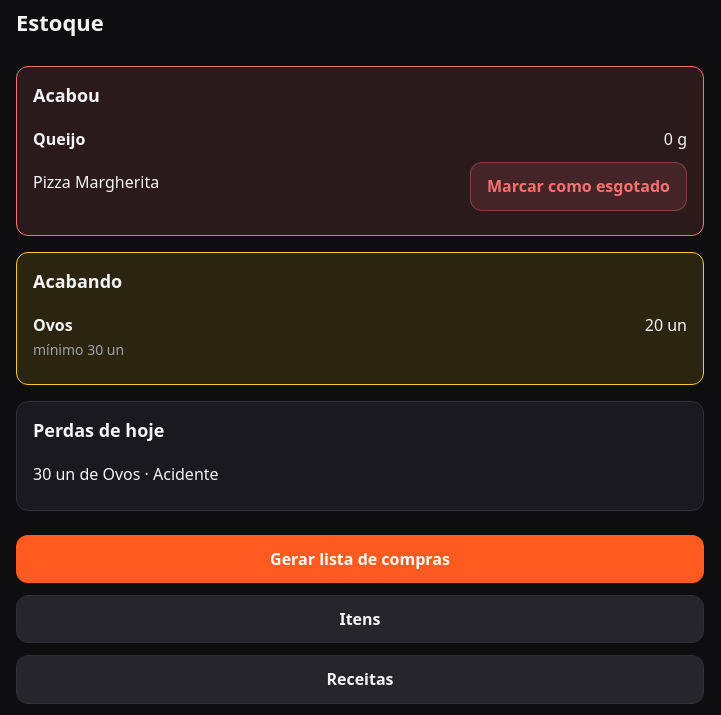
Test case: Início do estoque › mostra Acabando, Acabou com Marcar como esgotado e Perdas de hoje
Expected: the text "Ovos" is shown, [33,314,73,336]
Expected: the text "20 un" is shown, [645,314,687,336]
Click the button with aria-label "Marcar Pizza Margherita como esgotado" at (578, 187), box [470,162,687,211]
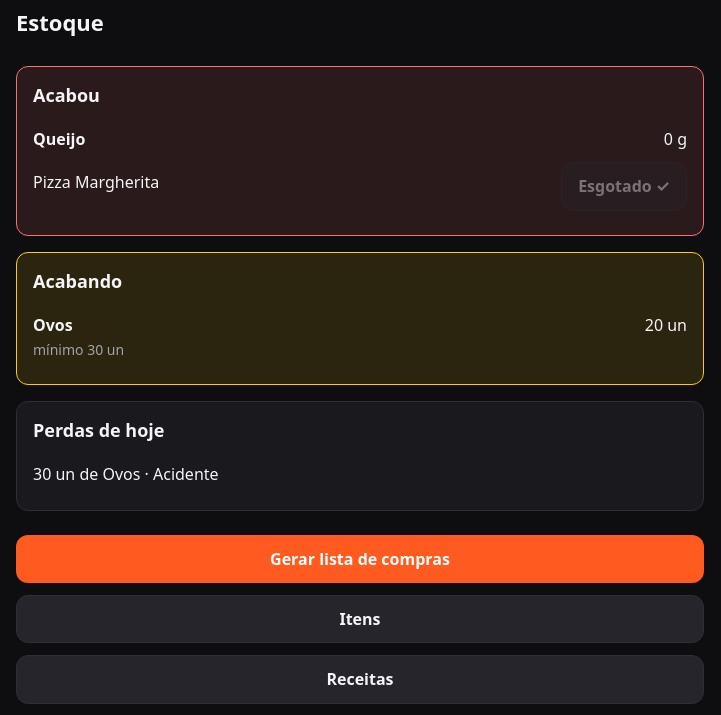
Expected: the text "30 un de Ovos · Acidente" is shown, [33,463,219,485]
Result: the button with aria-label "Pizza Margherita esgotado" is disabled at [561,162,687,211]
Result: the button with aria-label "Pizza Margherita esgotado" reads "Esgotado ✓" at [561,162,687,211]
